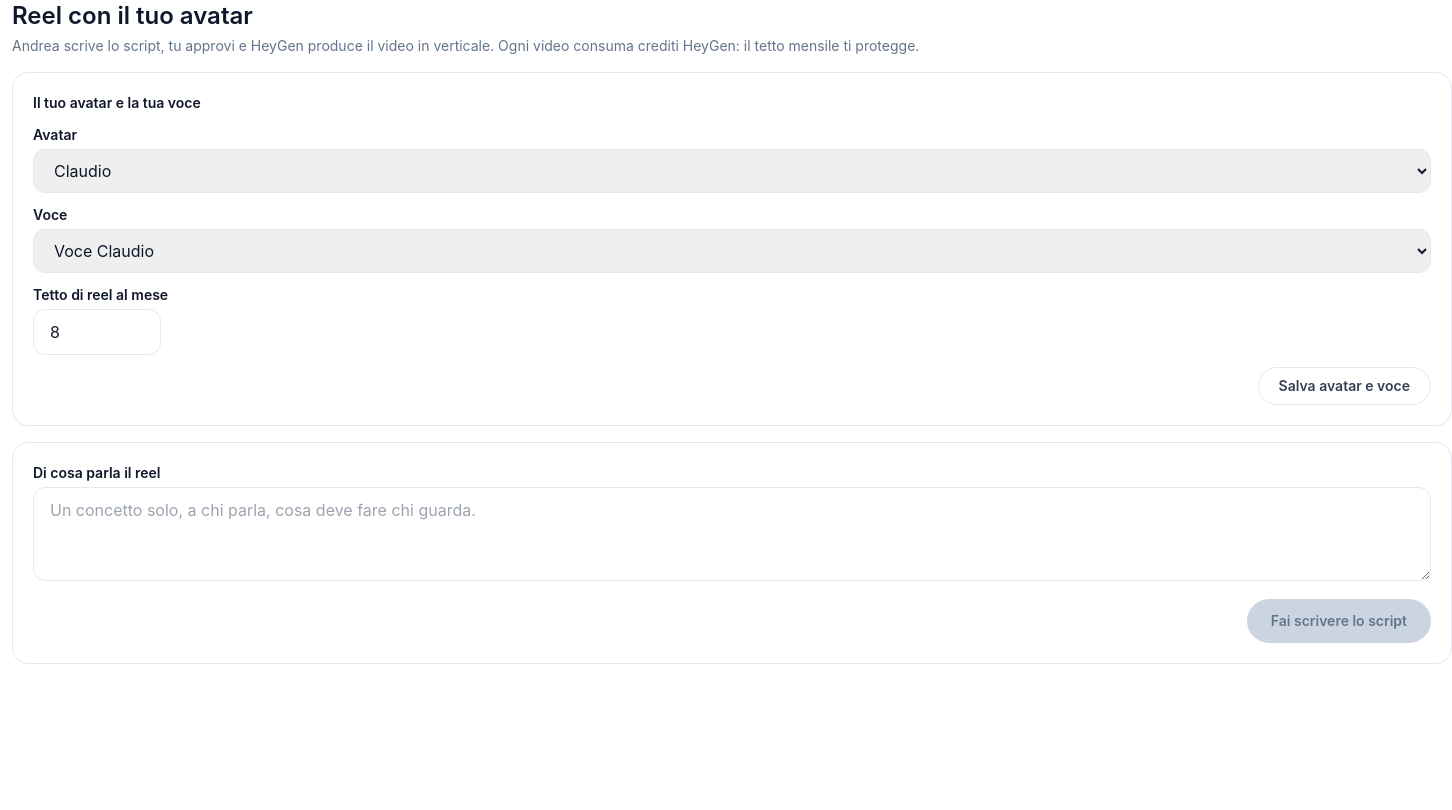
Test: genera solo dopo lo script e il clic su «Approva e genera»
The width and height of the screenshot is (1452, 810).
Later steps or results of the test are not shown.
Expected: the dropdown labelled "Avatar" shows "Claudio", 33,149 -> 1431,193
Type "Perché i corsi online non vendono" into the text box labelled "Di cosa parla il reel" at point(732, 534), box 33,487 -> 1431,581
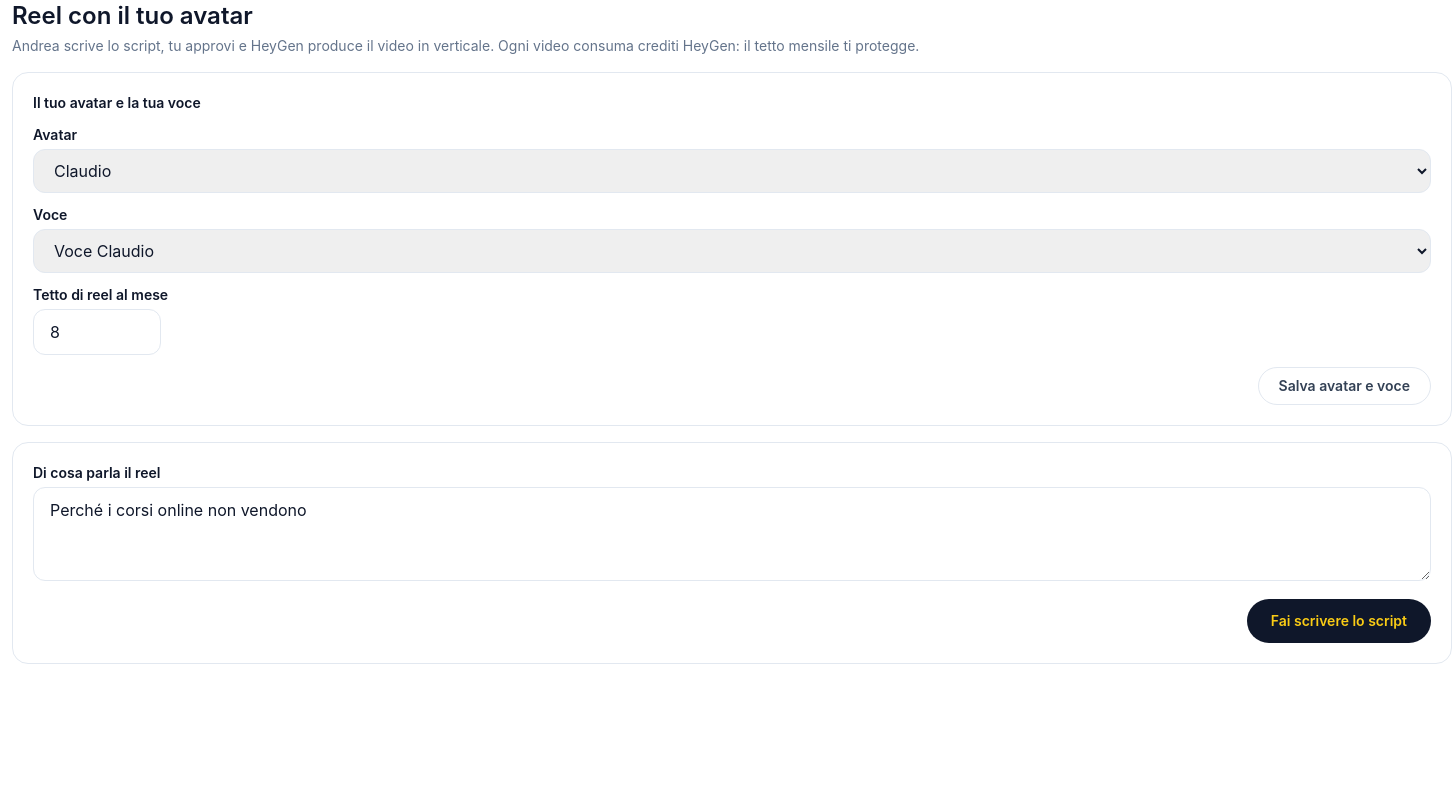
Click the button "Fai scrivere lo script" at point(1339, 621), box 1247,599 -> 1431,643
(page scrolled)
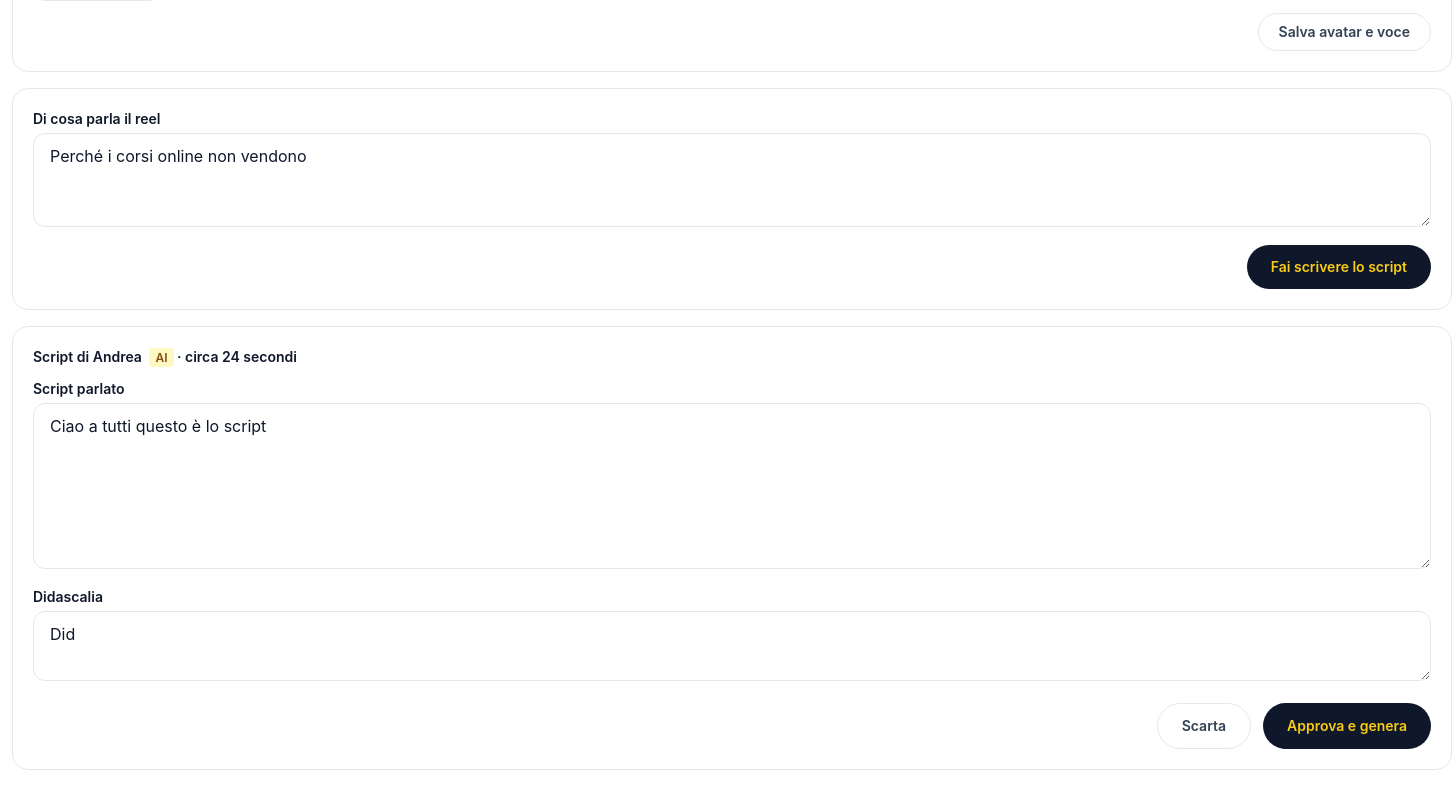
Result: the text "Script di Andrea AI · circa 24 secondi" is shown at 33,348 -> 297,367
